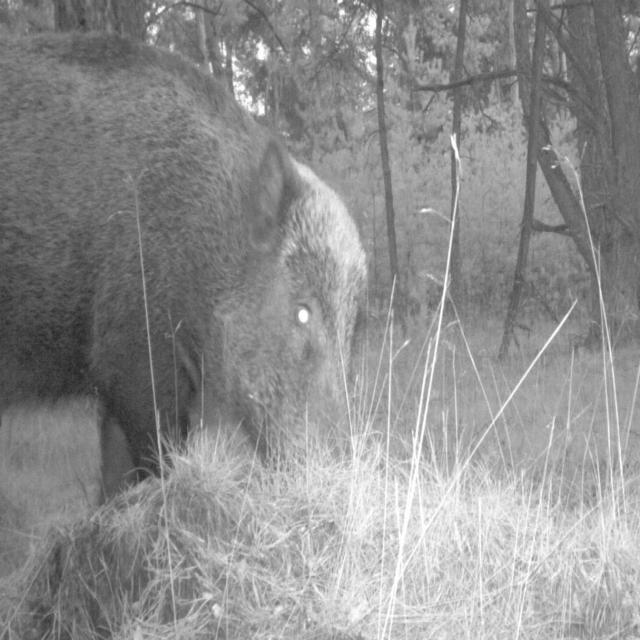pig: (1, 0, 387, 516)
